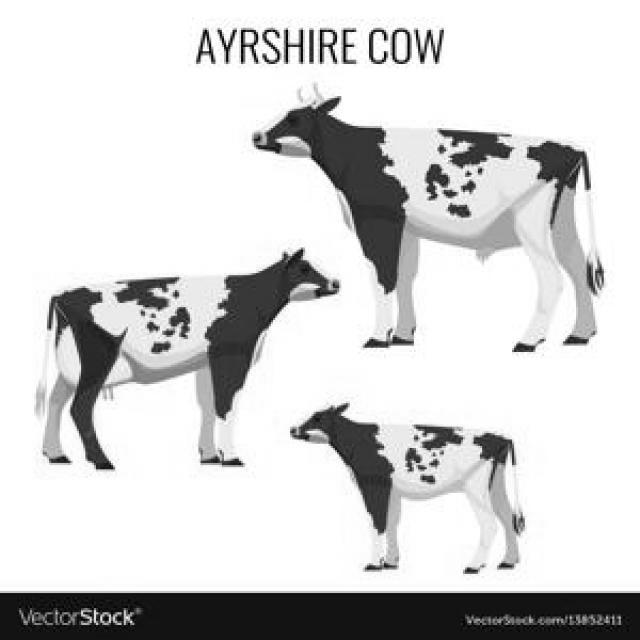cow: (255, 98, 604, 346), (42, 250, 336, 469), (292, 404, 520, 572)
